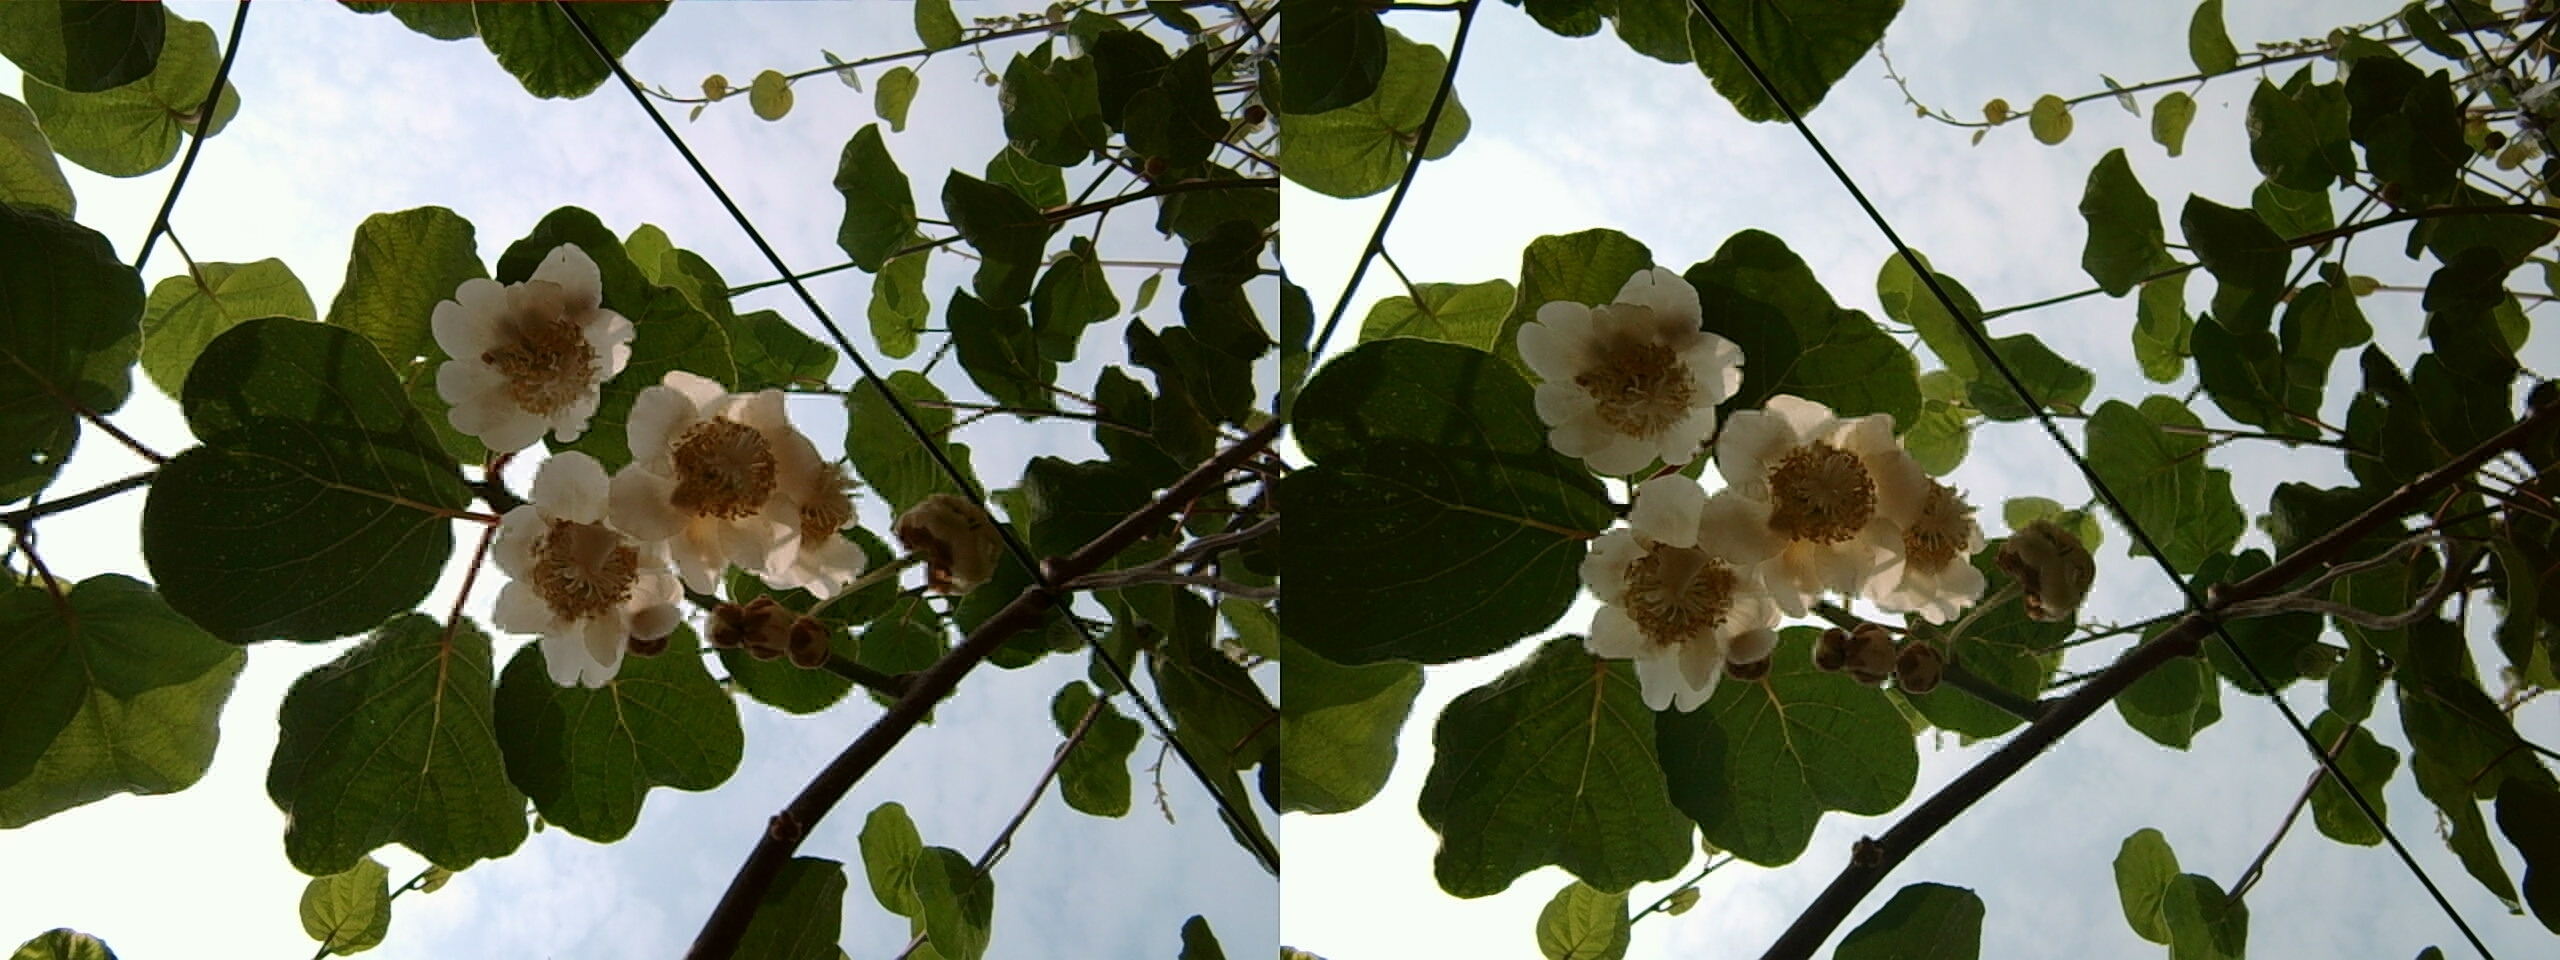flower: (1700, 393, 1959, 611), (1505, 268, 1750, 491), (1561, 487, 1796, 712), (611, 380, 857, 593), (465, 464, 700, 686), (413, 256, 640, 462)
